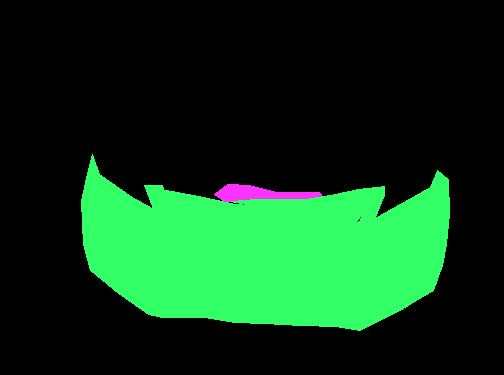Broken part: (81, 154, 449, 330), (154, 188, 372, 242), (231, 186, 384, 228), (144, 185, 171, 219)
Dent: (214, 184, 324, 204)
Missing part: (181, 271, 337, 309)
Paint chip: (370, 266, 388, 275)
